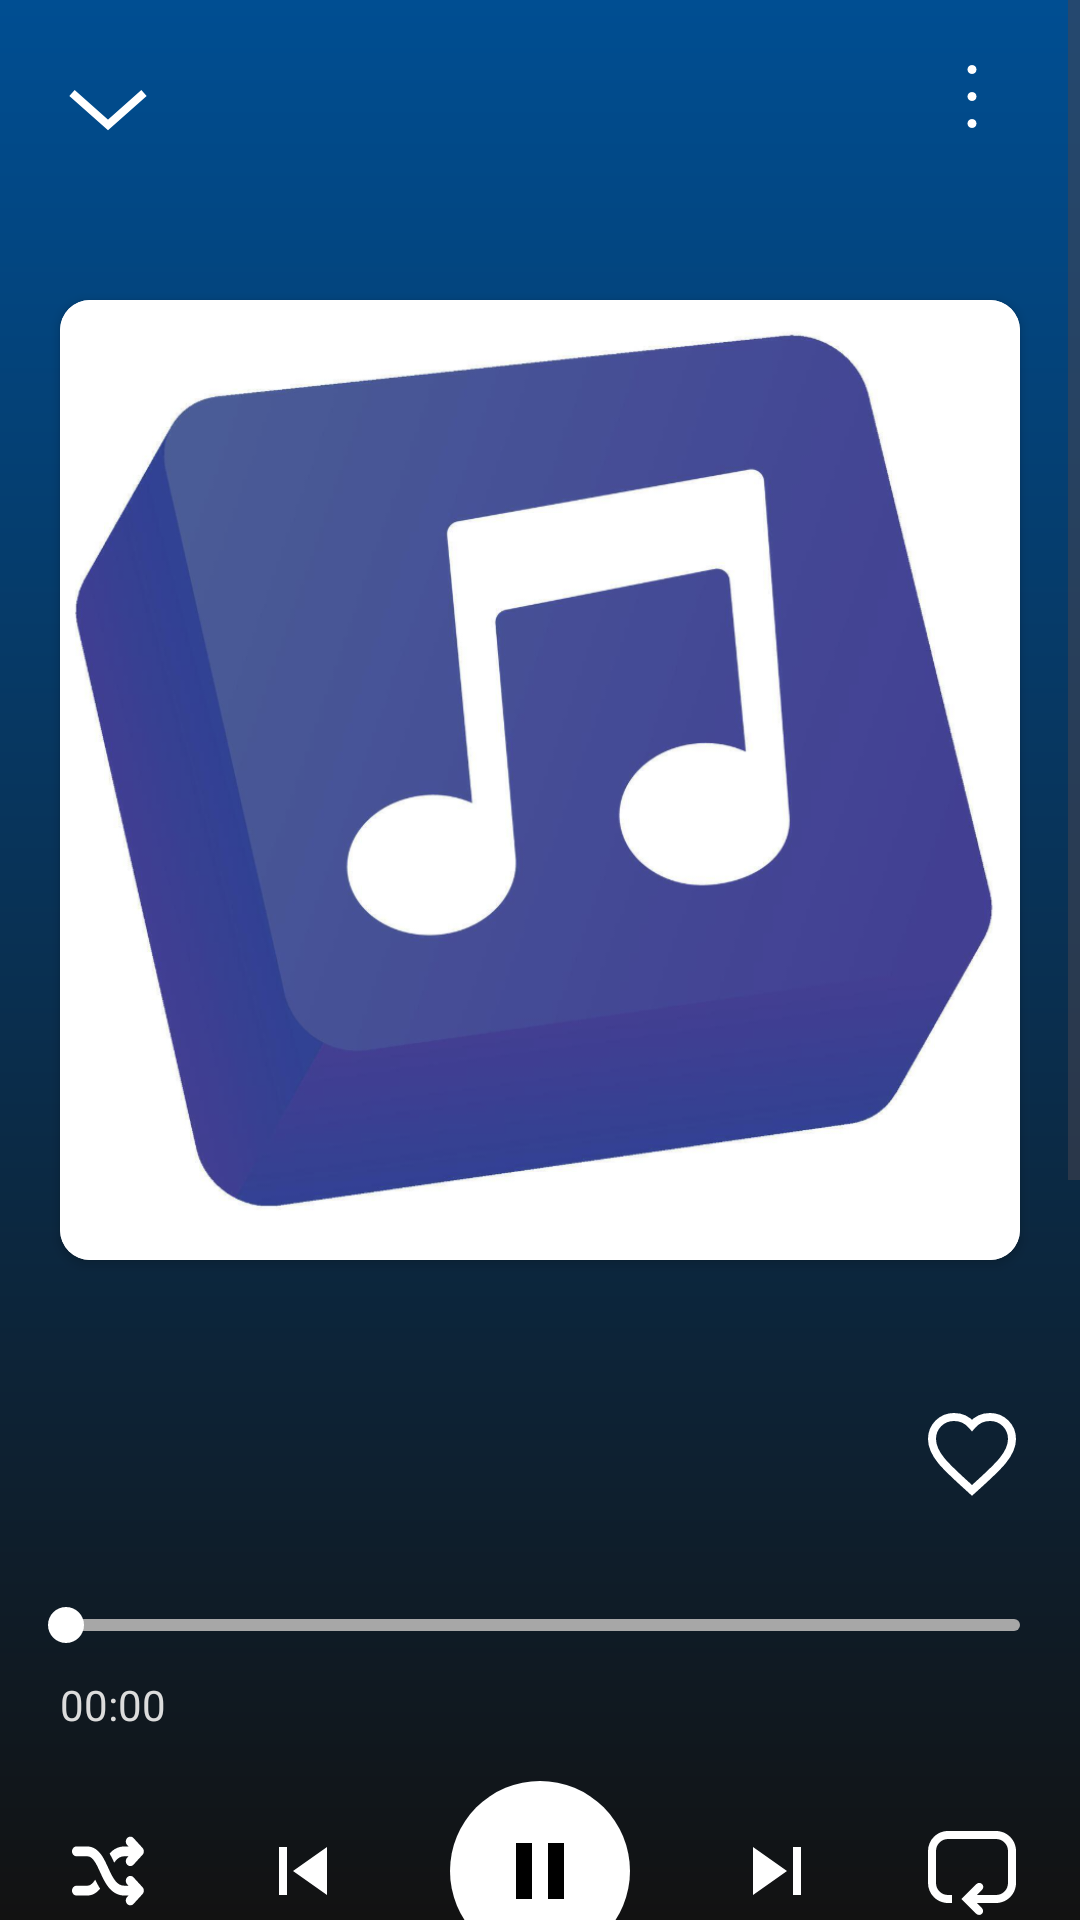

Screen size 1080x1920. Icon name, then its box in pixels as box(x1, y1, x2, y2):
Bài hát tiếp theo: box(753, 1847, 801, 1895)
Bài hát trước: box(279, 1847, 327, 1895)
Nút lặp lại: box(928, 1831, 1016, 1915)
Thu nhỏ: box(69, 90, 147, 130)
Thêm vào yêu thích: box(928, 1413, 1016, 1496)
Trộn bài: box(72, 1836, 144, 1906)
